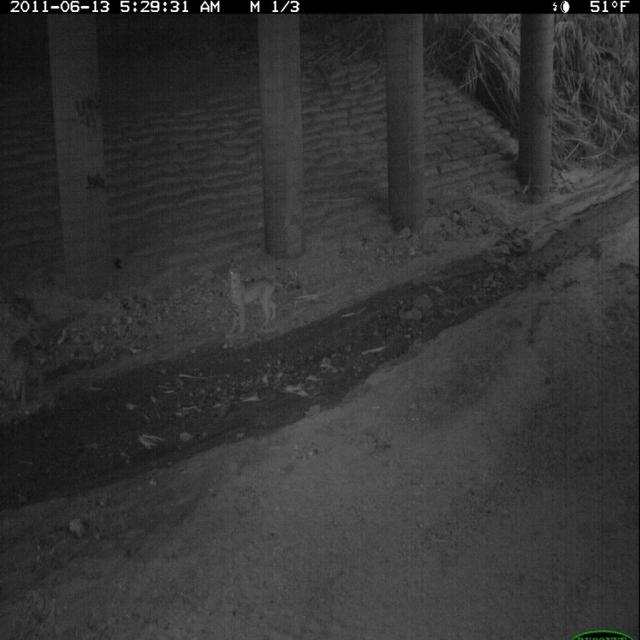bobcat: (226, 255, 280, 343), (3, 327, 36, 410)
